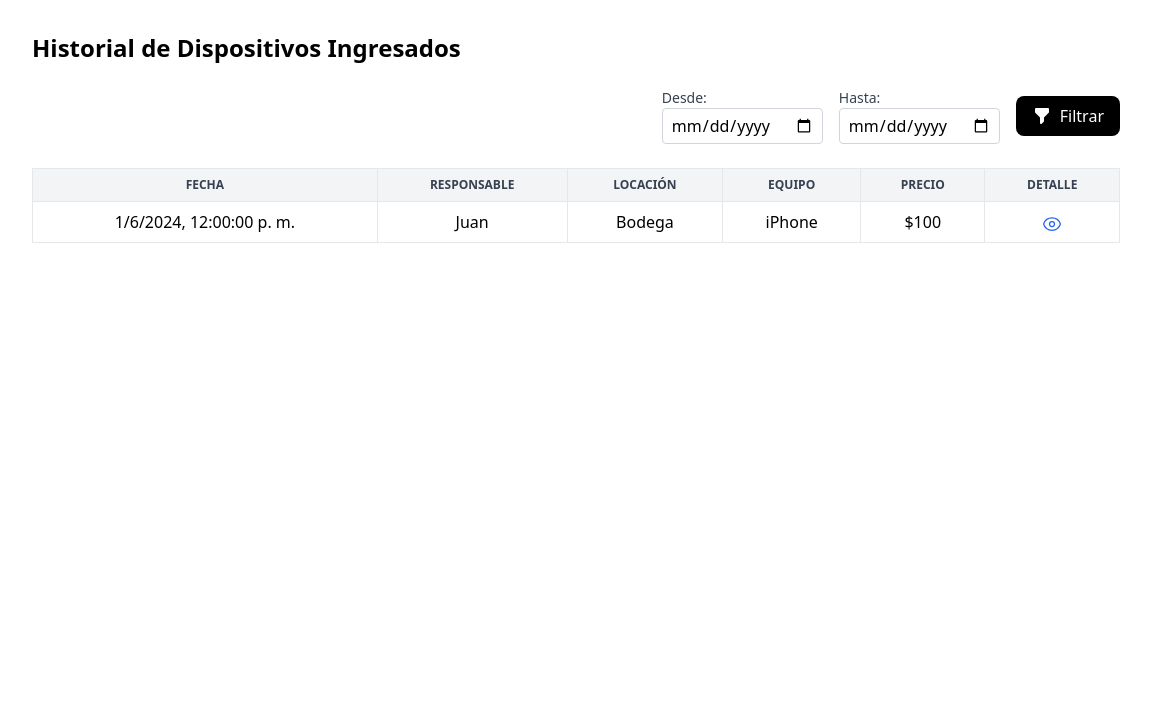
Scenario: HistorialIngresosDispositivos › abre y cierra el modal de detalle
This screenshot has width=1152, height=720.
Click the button titled "Ver detalle" at (1052, 222), box [1042, 210, 1062, 234]
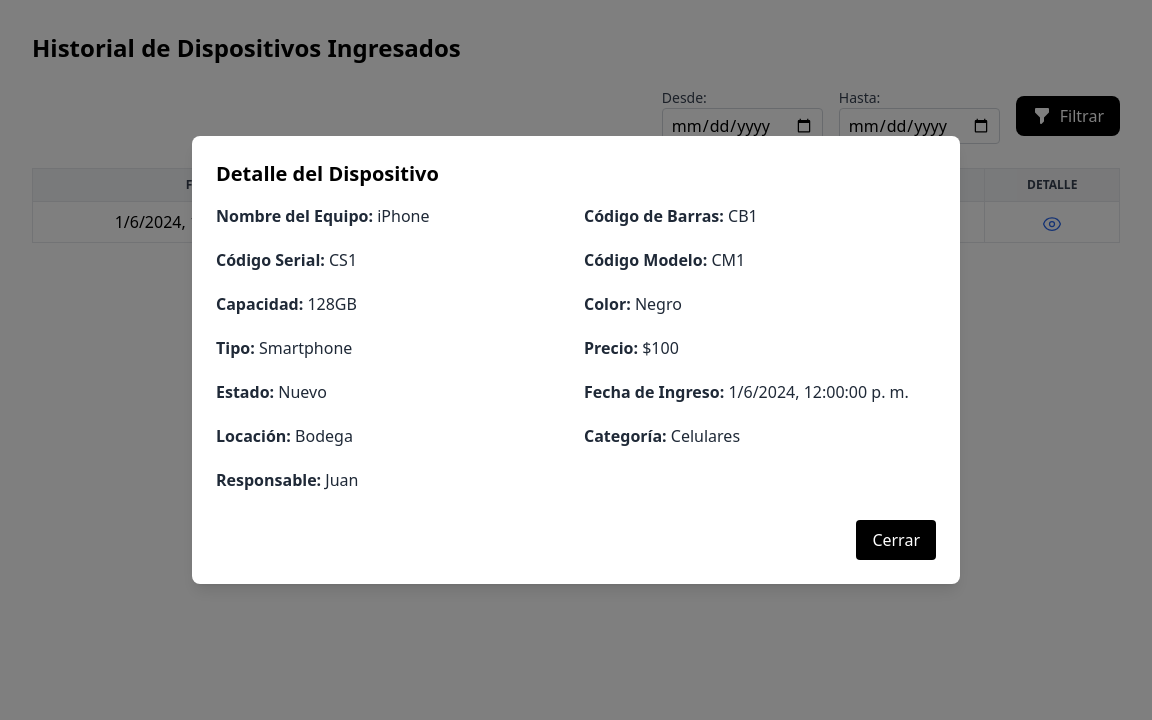
Now the heading "Detalle del Dispositivo" is shown, box [216, 160, 439, 187]
Now the text "Nombre del Equipo:" is shown, box [216, 205, 373, 227]
Click the button "Cerrar" at (896, 540), box [856, 520, 936, 560]
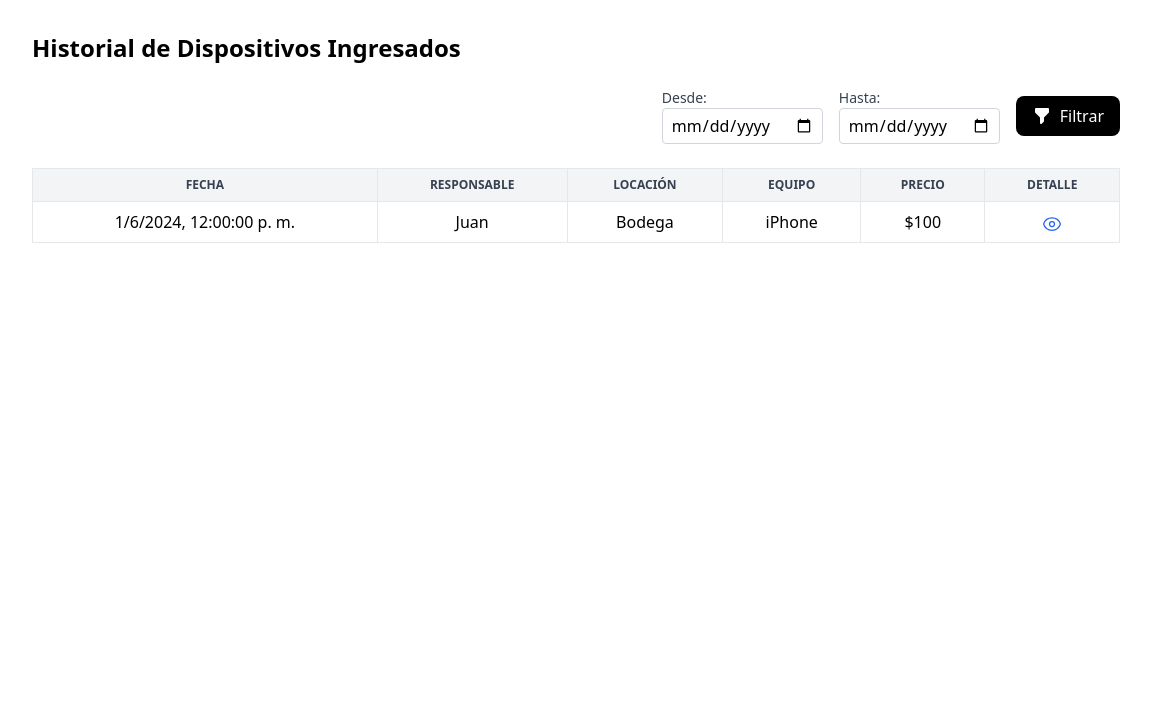
Now the heading "Detalle del Dispositivo" is gone
